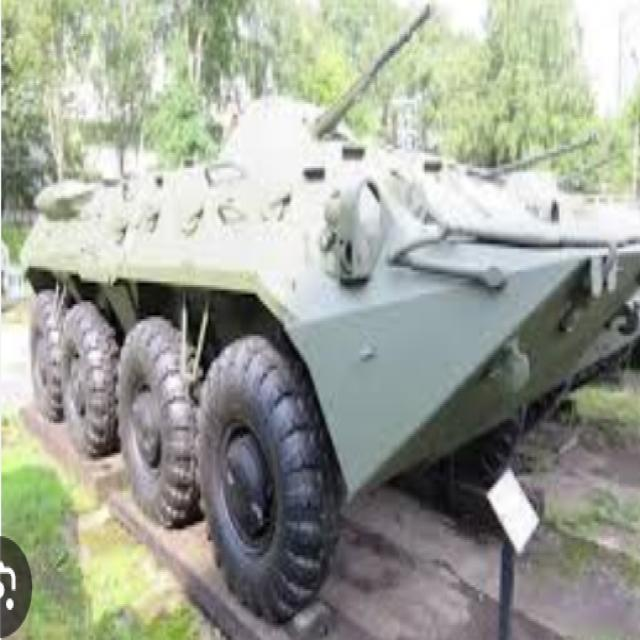MIL_APC: (21, 120, 634, 587)
